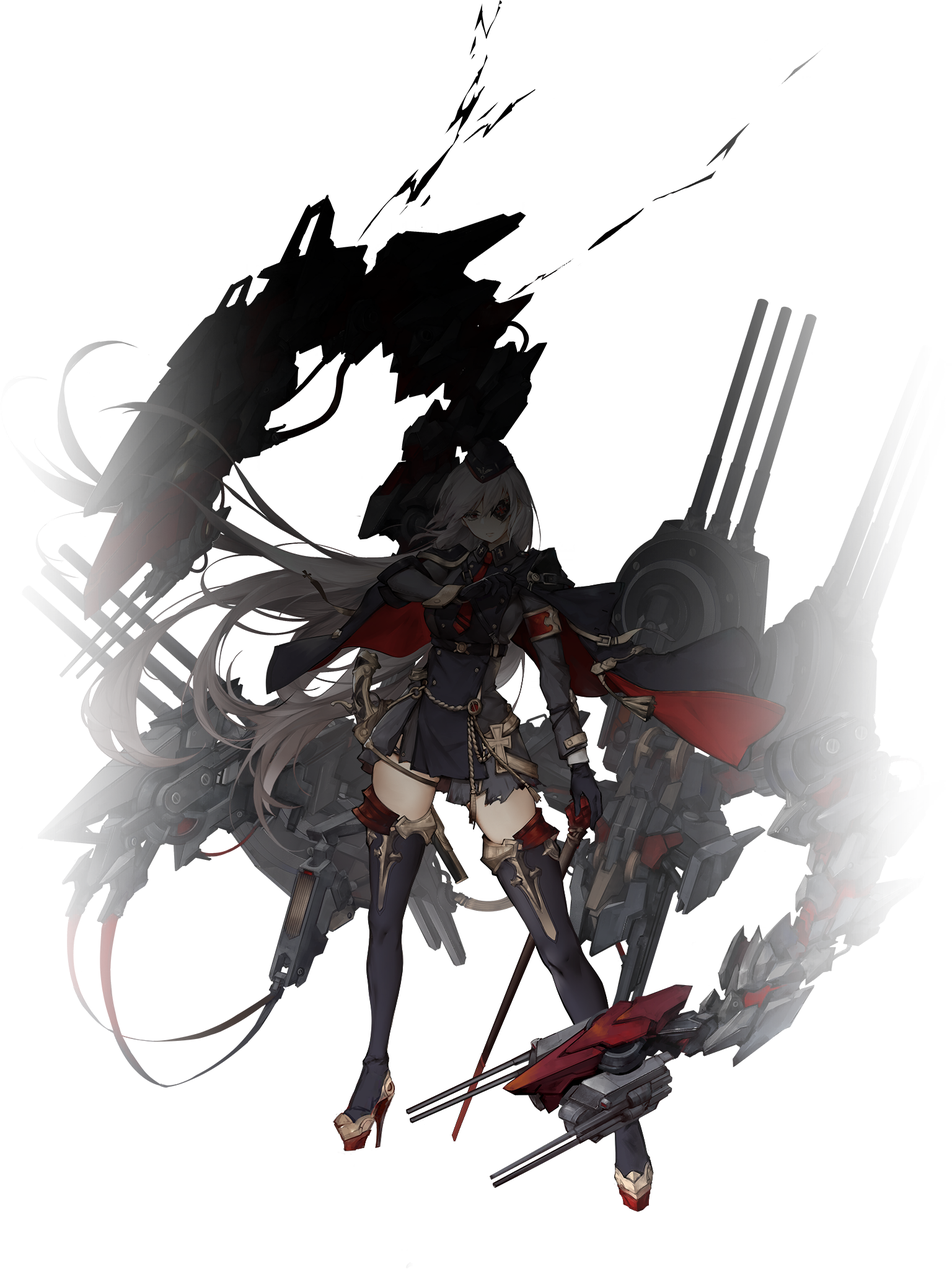person: (51, 417, 663, 1202)
